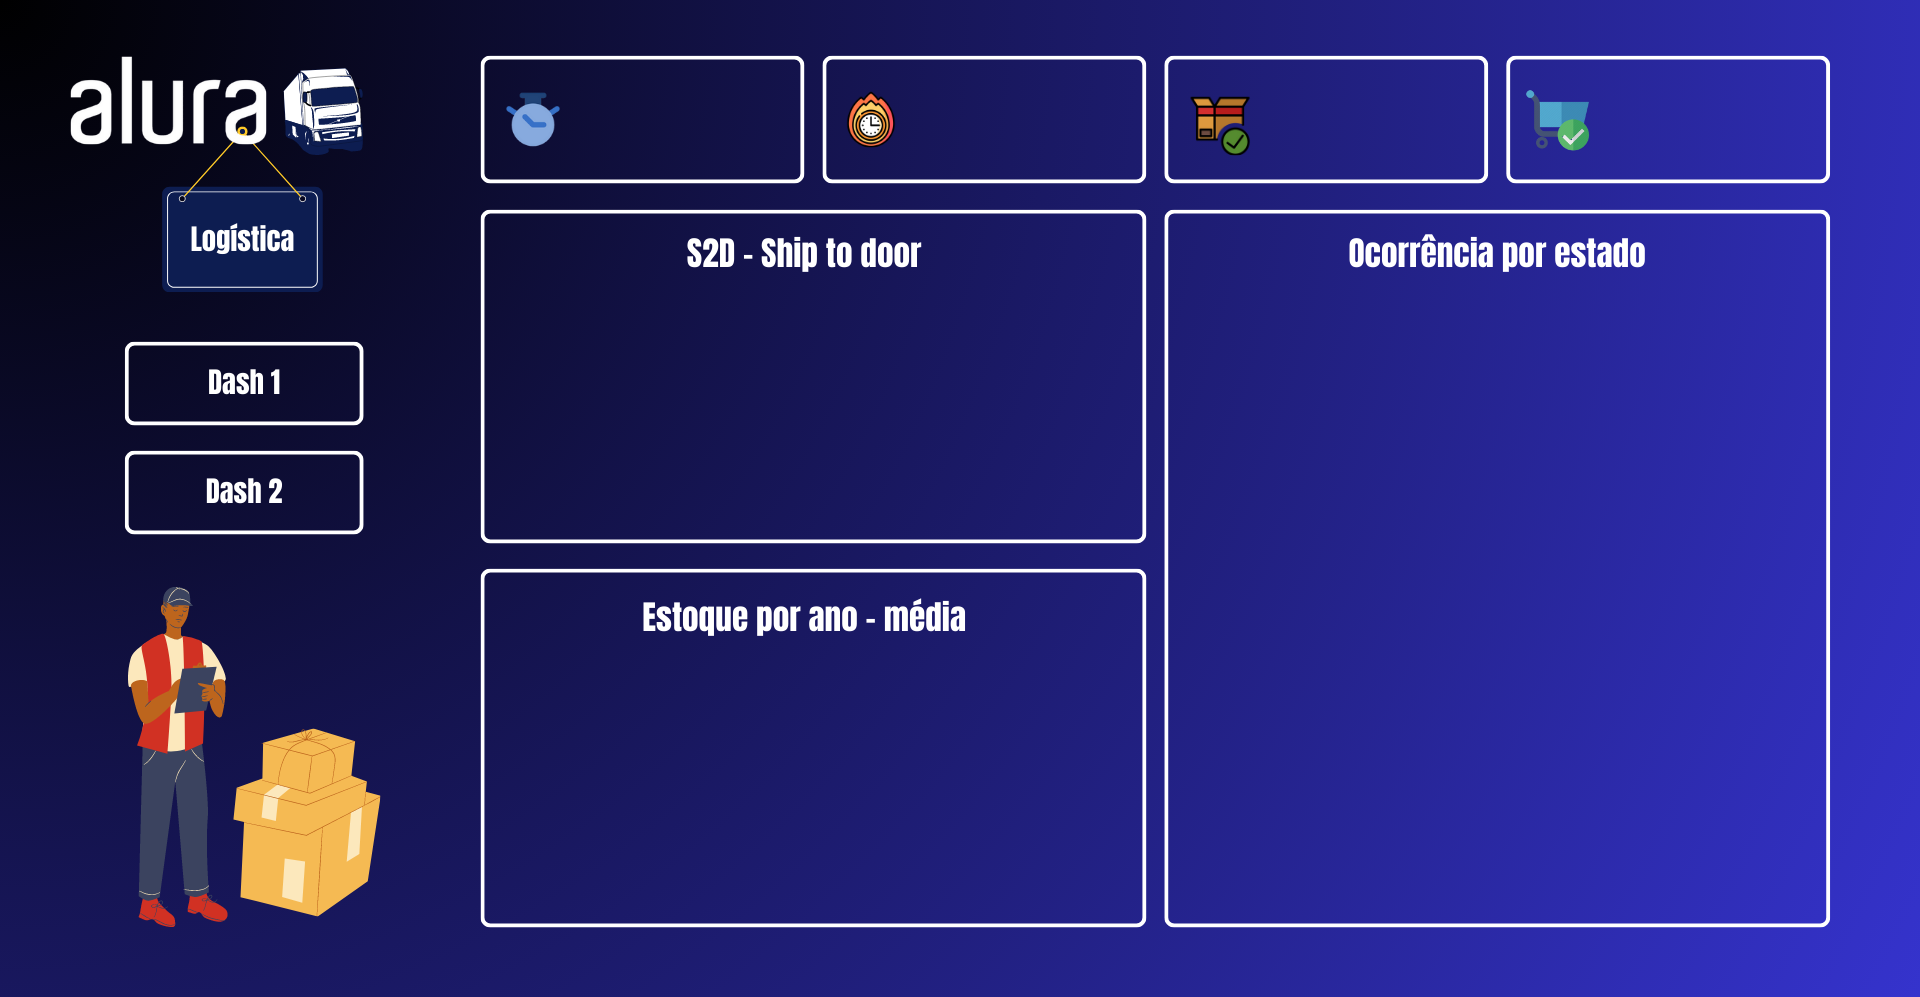

Layout of this report page (visuals, bound fields, positions):
{"tool":"powerbi","page":{"name":"Logística","canvas":[1280,720],"ordinal":0},"visuals":[{"type":"card","fields":{"Values":["Medidas.Atrasados"]},"box":[615.5,33.6,154.5,88.2],"z":0},{"type":"card","fields":{"Values":["Medidas.No Prazo"]},"box":[364.5,38.2,171.8,80],"z":1000},{"type":"card","fields":{"Values":["Medidas.Total de Pedidos"]},"box":[1090.9,35.5,160,82.7],"z":2000},{"type":"card","fields":{"Values":["Medidas.Entregues"]},"box":[852.7,35.5,159.1,85.5],"z":3000},{"type":"map","fields":{"Category":["Pedidos.UF da entrega","Pedidos.Latitude","Pedidos.Longitude"],"Size":["Sum(Pedidos.Quantidade)"],"Series":["Pedidos.País"]},"box":[812.7,191.8,457.3,474.5],"z":4000},{"type":"areaChart","fields":{"Category":["Pedidos.Data da compra.Variation.Hierarquia de datas.Mês"],"Y":["Avg(Pedidos.S2D)"]},"box":[326.4,199.1,446.4,181.8],"z":5000},{"type":"clusteredColumnChart","fields":{"Category":["Estoque.Data atualização.Variation.Hierarquia de datas.Ano"],"Y":["Avg(Estoque.Quantidade)"]},"box":[331.3,471.9,437.9,194.3],"z":6000},{"type":"actionButton","box":[62.7,331.8,156.4,49.1],"z":7000}]}

Visuals, with their boxes on the page's 1280x720 design canvas (x1, y1, x2, y2). These are canvas units, not pixel positions in the 1920x997 screenshot, which may show the page scaled, cropped or inside an application window:
card - Medidas.Atrasados: 616, 34, 770, 122
card - Medidas.No Prazo: 364, 38, 536, 118
card - Medidas.Total de Pedidos: 1091, 36, 1251, 118
card - Medidas.Entregues: 853, 36, 1012, 121
map - Pedidos.UF da entrega x Pedidos.Latitude: 813, 192, 1270, 666
areaChart - Pedidos.Data da compra.Variation.Hierarquia de datas.Mês x Avg(Pedidos.S2D): 326, 199, 773, 381
clusteredColumnChart - Estoque.Data atualização.Variation.Hierarquia de datas.Ano x Avg(Estoque.Quantidade): 331, 472, 769, 666
actionButton: 63, 332, 219, 381
